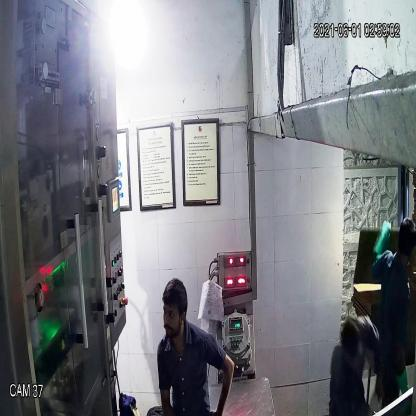no_goggles: (160, 303, 188, 324)
